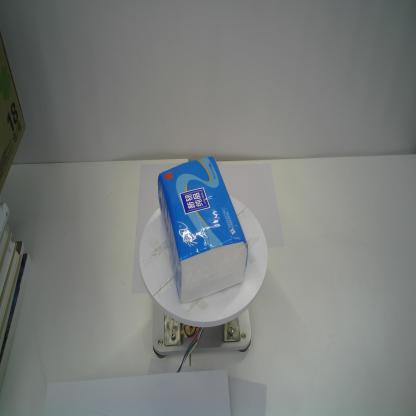Tissue: (156, 154, 249, 305)
